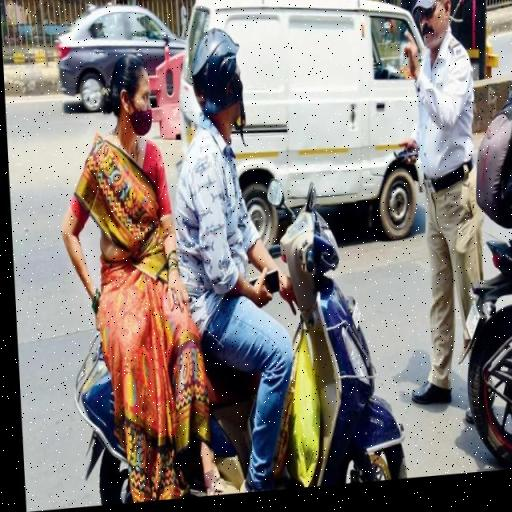Helmet: (176, 27, 270, 165)
Motor: (38, 170, 404, 510)
